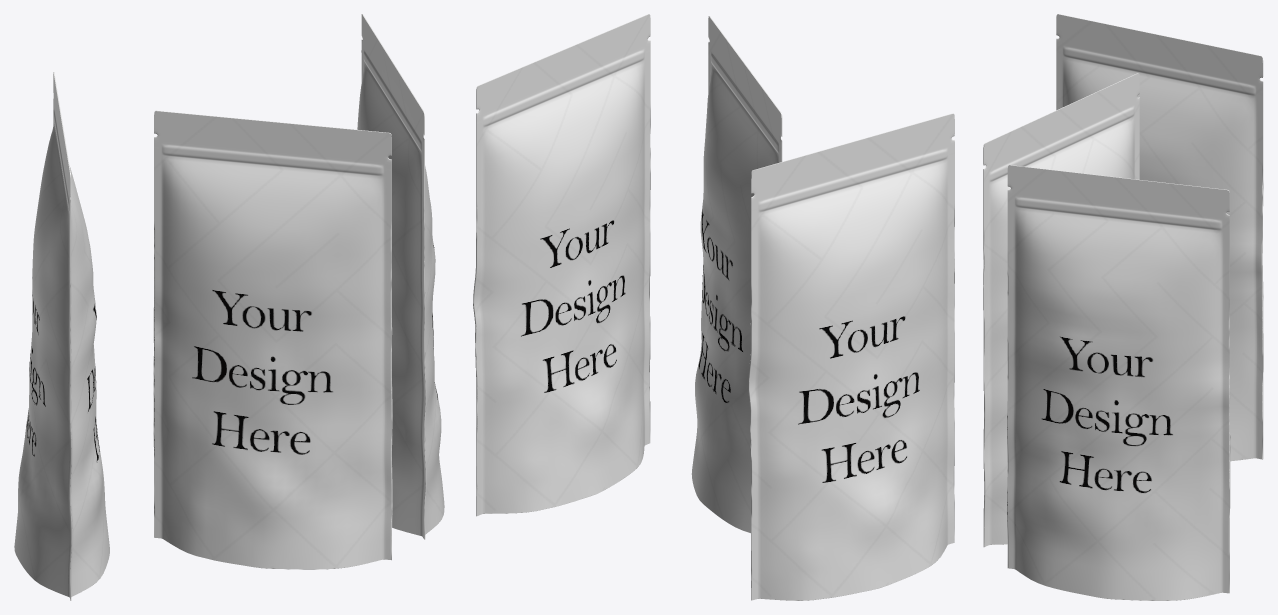
Rendered from Zip Angle-5.glb.
3 views of the same model, side by side, from view 1: azimuth 30°, elevation 25°; view 2: azimuth 150°, elevation 25°; view 3: azimuth 270°, elevation 25° (orthographic). The views are drawn at different scales.
Visible parts, largest first — view 1: ATR001_Doypack_0.001, ATR001_Doypack_0, ATR001_Doypack_0.002; view 2: ATR001_Doypack_0, ATR001_Doypack_0.002, ATR001_Doypack_0.001; view 3: ATR001_Doypack_0.002, ATR001_Doypack_0, ATR001_Doypack_0.001.
Boxes of the visible parts, bbox=[...] form: ATR001_Doypack_0.001: bbox=[153, 110, 392, 569]; ATR001_Doypack_0: bbox=[14, 72, 109, 600]; ATR001_Doypack_0.002: bbox=[357, 14, 444, 539]; ATR001_Doypack_0: bbox=[748, 113, 954, 600]; ATR001_Doypack_0.002: bbox=[473, 14, 650, 516]; ATR001_Doypack_0.001: bbox=[691, 16, 782, 533]; ATR001_Doypack_0.002: bbox=[1006, 165, 1230, 600]; ATR001_Doypack_0: bbox=[1056, 14, 1263, 461]; ATR001_Doypack_0.001: bbox=[983, 73, 1139, 547].
Bounding box in the file's own units: 0.3089 × 0.3102 × 0.1954.
Materials: 1 (1 with a texture image).
